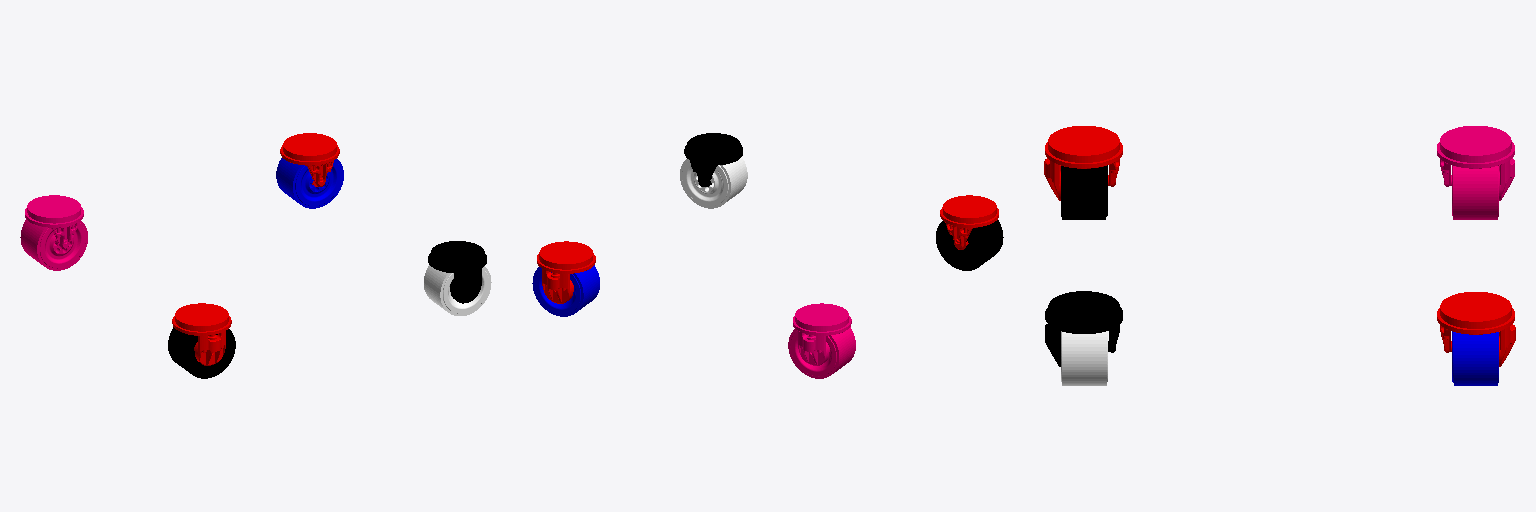
The robot description file, URDF, robot "demo_bot":
<?xml version="1.0" ?>
<robot name="demo_bot">
  <link name="Chasis_1">
    <visual name="Chasis_1_visual">
      <origin xyz="0 0 0" rpy="0 0 0"/>
      <geometry>
        <mesh filename="meshes/Chasis_1.stl"/>
      </geometry>
      <material name="Chasis_1-material">
        <color rgba="1 0 0.5 1"/>
      </material>
    </visual>
    <collision name="Chasis_1_collision">
      <origin xyz="0 0 0" rpy="0 0 0"/>
      <geometry>
        <mesh filename="meshes/Chasis_1.stl"/>
      </geometry>
    </collision>
    <inertial>
      <mass value="0"/>
      <inertia ixx="0.00029957171" iyy="0.00030586696" izz="0.00060543821" ixy="-2.0740415e-06" ixz="1.2570242e-07" iyz="1.3619172e-07"/>
      <origin xyz="-0.036891628 -0.010629791 -7.8843153e-05" rpy="0 0 0"/>
    </inertial>
  </link>
  <link name="WS2_1">
    <visual name="WS2_1_visual">
      <origin xyz="0 0 0" rpy="0 0 0"/>
      <geometry>
        <mesh filename="meshes/WS2_1.stl"/>
      </geometry>
      <material name="WS2_1-material">
        <color rgba="0 0 0 1"/>
      </material>
    </visual>
    <collision name="WS2_1_collision">
      <origin xyz="0 0 0" rpy="0 0 0"/>
      <geometry>
        <mesh filename="meshes/WS2_1.stl"/>
      </geometry>
    </collision>
    <inertial>
      <mass value="0"/>
      <inertia ixx="0" iyy="0" izz="0" ixy="0" ixz="0" iyz="0"/>
      <origin xyz="0.066675 -0.066675 -0.10874375" rpy="0 0 0"/>
    </inertial>
  </link>
  <link name="WS1_1">
    <visual name="WS1_1_visual">
      <origin xyz="0 0 0" rpy="0 0 0"/>
      <geometry>
        <mesh filename="meshes/WS1_1.stl"/>
      </geometry>
      <material name="WS1_1-material">
        <color rgba="1 0 0 1"/>
      </material>
    </visual>
    <collision name="WS1_1_collision">
      <origin xyz="0 0 0" rpy="0 0 0"/>
      <geometry>
        <mesh filename="meshes/WS1_1.stl"/>
      </geometry>
    </collision>
    <inertial>
      <mass value="0"/>
      <inertia ixx="0" iyy="0" izz="0" ixy="0" ixz="0" iyz="0"/>
      <origin xyz="0.066675 0.066675 -0.10874375" rpy="0 0 0"/>
    </inertial>
  </link>
  <link name="WS4_1">
    <visual name="WS4_1_visual">
      <origin xyz="0 0 0" rpy="0 0 0"/>
      <geometry>
        <mesh filename="meshes/WS4_1.stl"/>
      </geometry>
      <material name="WS4_1-material">
        <color rgba="1 0 0.5 1"/>
      </material>
    </visual>
    <collision name="WS4_1_collision">
      <origin xyz="0 0 0" rpy="0 0 0"/>
      <geometry>
        <mesh filename="meshes/WS4_1.stl"/>
      </geometry>
    </collision>
    <inertial>
      <mass value="0"/>
      <inertia ixx="0" iyy="0" izz="0" ixy="0" ixz="0" iyz="0"/>
      <origin xyz="0.066675 -0.066675 -0.10874375" rpy="0 0 0"/>
    </inertial>
  </link>
  <link name="WS3_1">
    <visual name="WS3_1_visual">
      <origin xyz="0 0 0" rpy="0 0 0"/>
      <geometry>
        <mesh filename="meshes/WS3_1.stl"/>
      </geometry>
      <material name="WS3_1-material">
        <color rgba="1 0 0 1"/>
      </material>
    </visual>
    <collision name="WS3_1_collision">
      <origin xyz="0 0 0" rpy="0 0 0"/>
      <geometry>
        <mesh filename="meshes/WS3_1.stl"/>
      </geometry>
    </collision>
    <inertial>
      <mass value="0"/>
      <inertia ixx="0" iyy="0" izz="0" ixy="0" ixz="0" iyz="0"/>
      <origin xyz="0.066675 0.066675 -0.10874375" rpy="0 0 0"/>
    </inertial>
  </link>
  <link name="Wheel2_1">
    <visual name="Wheel2_1_visual">
      <origin xyz="0 0 0" rpy="0 0 0"/>
      <geometry>
        <mesh filename="meshes/Wheel2_1.stl"/>
      </geometry>
      <material name="Wheel2_1-material">
        <color rgba="1 1 1 1"/>
      </material>
    </visual>
    <collision name="Wheel2_1_collision">
      <origin xyz="0 0 0" rpy="0 0 0"/>
      <geometry>
        <mesh filename="meshes/Wheel2_1.stl"/>
      </geometry>
    </collision>
    <inertial>
      <mass value="0"/>
      <inertia ixx="0" iyy="0" izz="0" ixy="0" ixz="0" iyz="0"/>
      <origin xyz="0.066675 0.0508 -0.06874688" rpy="0 0 0"/>
    </inertial>
  </link>
  <link name="Wheel1_1">
    <visual name="Wheel1_1_visual">
      <origin xyz="0 0 0" rpy="0 0 0"/>
      <geometry>
        <mesh filename="meshes/Wheel1_1.stl"/>
      </geometry>
      <material name="Wheel1_1-material">
        <color rgba="0 0 1 1"/>
      </material>
    </visual>
    <collision name="Wheel1_1_collision">
      <origin xyz="0 0 0" rpy="0 0 0"/>
      <geometry>
        <mesh filename="meshes/Wheel1_1.stl"/>
      </geometry>
    </collision>
    <inertial>
      <mass value="0"/>
      <inertia ixx="0" iyy="0" izz="0" ixy="0" ixz="0" iyz="0"/>
      <origin xyz="0.066675 -0.0508 -0.06874688" rpy="0 0 0"/>
    </inertial>
  </link>
  <link name="Wheel4_1">
    <visual name="Wheel4_1_visual">
      <origin xyz="0 0 0" rpy="0 0 0"/>
      <geometry>
        <mesh filename="meshes/Wheel4_1.stl"/>
      </geometry>
      <material name="Wheel4_1-material">
        <color rgba="1 0 0.5 1"/>
      </material>
    </visual>
    <collision name="Wheel4_1_collision">
      <origin xyz="0 0 0" rpy="0 0 0"/>
      <geometry>
        <mesh filename="meshes/Wheel4_1.stl"/>
      </geometry>
    </collision>
    <inertial>
      <mass value="0"/>
      <inertia ixx="0" iyy="0" izz="0" ixy="0" ixz="0" iyz="0"/>
      <origin xyz="0.066675 0.0508 -0.06874688" rpy="0 0 0"/>
    </inertial>
  </link>
  <link name="Wheel3_1">
    <visual name="Wheel3_1_visual">
      <origin xyz="0 0 0" rpy="0 0 0"/>
      <geometry>
        <mesh filename="meshes/Wheel3_1.stl"/>
      </geometry>
      <material name="Wheel3_1-material">
        <color rgba="0 0 0 1"/>
      </material>
    </visual>
    <collision name="Wheel3_1_collision">
      <origin xyz="0 0 0" rpy="0 0 0"/>
      <geometry>
        <mesh filename="meshes/Wheel3_1.stl"/>
      </geometry>
    </collision>
    <inertial>
      <mass value="0"/>
      <inertia ixx="0" iyy="0" izz="0" ixy="0" ixz="0" iyz="0"/>
      <origin xyz="0.066675 -0.0508 -0.06874688" rpy="0 0 0"/>
    </inertial>
  </link>
  <joint name="Revolute_2" type="revolute">
    <origin xyz="0.183325 -0.27388 0.10874375" rpy="9.3813846e-16 0 -2.9582284e-31"/>
    <parent link="Chasis_1"/>
    <child link="WS2_1"/>
    <axis xyz="0 0 -1"/>
    <limit effort="1" velocity="1" lower="-6.2831853" upper="6.2831853"/>
  </joint>
  <joint name="Revolute_4" type="revolute">
    <origin xyz="0.183325 0.23352665 0.1081421" rpy="-4.4408921e-16 0 5.5511151e-17"/>
    <parent link="Chasis_1"/>
    <child link="WS1_1"/>
    <axis xyz="0 0 -1"/>
    <limit effort="1" velocity="1" lower="-6.2831853" upper="6.2831853"/>
  </joint>
  <joint name="Revolute_6" type="revolute">
    <origin xyz="-0.324084 0.233325 0.10874375" rpy="2.220446e-16 0 -3.1415927"/>
    <parent link="Chasis_1"/>
    <child link="WS4_1"/>
    <axis xyz="0 0 -1"/>
    <limit effort="1" velocity="1" lower="-6.2831853" upper="6.2831853"/>
  </joint>
  <joint name="Revolute_8" type="revolute">
    <origin xyz="-0.324084 -0.274087 0.10874375" rpy="2.2870594e-14 0 3.1415927"/>
    <parent link="Chasis_1"/>
    <child link="WS3_1"/>
    <axis xyz="0 0 -1"/>
    <limit effort="1" velocity="1" lower="-6.2831853" upper="6.2831853"/>
  </joint>
  <joint name="Revolute_1" type="revolute">
    <origin xyz="0 0.0024615 -0.05794375" rpy="-1.5707963 0 0"/>
    <parent link="WS2_1"/>
    <child link="Wheel2_1"/>
    <axis xyz="0 0 -1"/>
    <limit effort="1" velocity="1" lower="-6.2831853" upper="6.2831853"/>
  </joint>
  <joint name="Revolute_3" type="revolute">
    <origin xyz="0 -0.0024615 -0.05794375" rpy="1.5707963 0 0"/>
    <parent link="WS1_1"/>
    <child link="Wheel1_1"/>
    <axis xyz="0 0 -1"/>
    <limit effort="1" velocity="1" lower="-6.2831853" upper="6.2831853"/>
  </joint>
  <joint name="Revolute_5" type="revolute">
    <origin xyz="0 0.0024615 -0.05794375" rpy="-1.5707963 0 0"/>
    <parent link="WS4_1"/>
    <child link="Wheel4_1"/>
    <axis xyz="0 0 -1"/>
    <limit effort="1" velocity="1" lower="-6.2831853" upper="6.2831853"/>
  </joint>
  <joint name="Revolute_7" type="revolute">
    <origin xyz="0 -0.0024615 -0.05794375" rpy="1.5707963 0 0"/>
    <parent link="WS3_1"/>
    <child link="Wheel3_1"/>
    <axis xyz="0 0 -1"/>
    <limit effort="1" velocity="1" lower="-6.2831853" upper="6.2831853"/>
  </joint>
</robot>

--- Render facts (derived) ---
3 views of the same robot in one strip: view 1: azimuth 30°, elevation 25°; view 2: azimuth 150°, elevation 25°; view 3: azimuth 270°, elevation 25° (orthographic).
Model demo_bot with 9 links and 8 joints (8 revolute), rooted at Chasis_1, posed every joint at zero.
Links seen in each view (by area): view 1: WS3_1, WS2_1, Wheel1_1, Wheel4_1, WS4_1, WS1_1, Wheel3_1, Wheel2_1; view 2: WS1_1, WS4_1, Wheel2_1, Wheel3_1, WS3_1, WS2_1, Wheel4_1, Wheel1_1; view 3: WS1_1, WS3_1, WS2_1, WS4_1, Wheel2_1, Wheel4_1, Wheel1_1, Wheel3_1.
Link boxes in pixels (x1,y1,x2,y2): WS3_1: [172, 303, 231, 365]; WS2_1: [428, 241, 486, 303]; Wheel1_1: [276, 158, 343, 208]; Wheel4_1: [20, 219, 87, 270]; WS4_1: [25, 195, 83, 249]; WS1_1: [280, 133, 339, 186]; Wheel3_1: [168, 327, 235, 378]; Wheel2_1: [424, 265, 491, 315]; WS1_1: [537, 241, 595, 303]; WS4_1: [793, 303, 851, 365]; Wheel2_1: [680, 157, 747, 208]; Wheel3_1: [936, 220, 1003, 270]; WS3_1: [940, 195, 998, 249]; WS2_1: [684, 133, 742, 186]; Wheel4_1: [788, 327, 855, 378]; Wheel1_1: [532, 265, 599, 316]; WS1_1: [1437, 292, 1515, 366]; WS3_1: [1044, 126, 1122, 200]; WS2_1: [1045, 291, 1122, 366]; WS4_1: [1437, 126, 1514, 200]; Wheel2_1: [1061, 331, 1107, 385]; Wheel4_1: [1452, 165, 1498, 219]; Wheel1_1: [1452, 331, 1498, 385]; Wheel3_1: [1061, 165, 1107, 219].
Bounding box of the posed robot: 0.609 × 0.6101 × 0.1093 m (x, y, z).
8 mesh visuals loaded from 9 distinct referenced files (8 binary STL); not drawn: 1 (reference not matched to a file when rendering).
